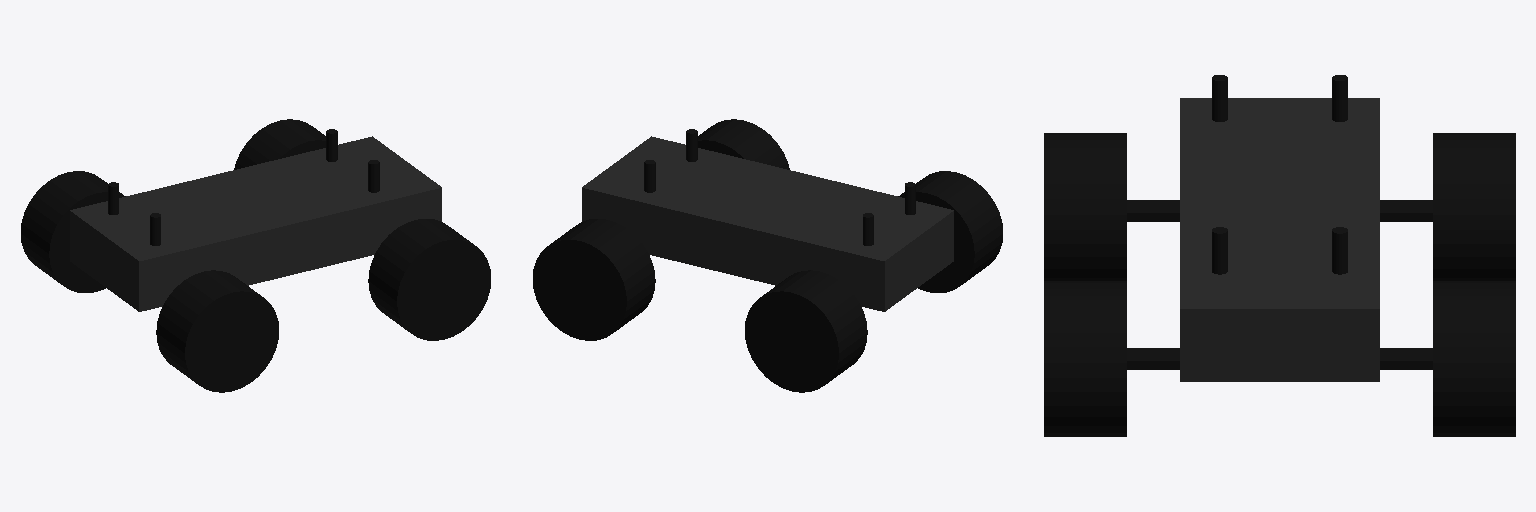
The robot description file, URDF, robot "hbx_16889_perfect":
<?xml version="1.0" ?>
<!-- =================================================================================== -->
<!-- |    This document was autogenerated by xacro from /home/user/ros2_ws/src/hbx_description/urdf/hbx_16889.urdf.xacro | -->
<!-- |    EDITING THIS FILE BY HAND IS NOT RECOMMENDED                                 | -->
<!-- =================================================================================== -->
<robot name="hbx_16889_perfect">
  <!-- 재질 색상 -->
  <material name="black">
    <color rgba="0.1 0.1 0.1 1.0"/>
  </material>
  <material name="dark_grey">
    <color rgba="0.2 0.2 0.2 1.0"/>
  </material>
  <material name="silver">
    <color rgba="0.7 0.7 0.7 1.0"/>
  </material>
  <!-- ==========================================
       2. 메인 섀시 및 상판 결합
       ========================================== -->
  <link name="base_footprint"/>
  <joint name="base_joint" type="fixed">
    <parent link="base_footprint"/>
    <child link="chassis_link"/>
    <origin rpy="0 0 0" xyz="0 0 0.059"/>
  </joint>
  <!-- 섀시 -->
  <link name="chassis_link">
    <visual>
      <geometry>
        <box size="0.25 0.1 0.04"/>
      </geometry>
      <material name="dark_grey"/>
    </visual>
    <inertial>
      <mass value="0.45"/>
      <inertia ixx="0.0004350000000000001" ixy="0.0" ixz="0.0" iyy="0.00240375" iyz="0.0" izz="0.0027187500000000002"/>
    </inertial>
  </link>
  <link name="fl_body_post">
    <visual>
      <geometry>
        <cylinder length="0.035" radius="0.004"/>
      </geometry>
      <material name="black"/>
    </visual>
  </link>
  <joint name="fl_body_post_joint" type="fixed">
    <parent link="chassis_link"/>
    <child link="fl_body_post"/>
    <!-- 섀시 윗면에서 상판까지 뻗어 올라감 -->
    <origin rpy="0 0 0" xyz="0.08 0.03 0.025"/>
  </joint>
  <link name="fr_body_post">
    <visual>
      <geometry>
        <cylinder length="0.035" radius="0.004"/>
      </geometry>
      <material name="black"/>
    </visual>
  </link>
  <joint name="fr_body_post_joint" type="fixed">
    <parent link="chassis_link"/>
    <child link="fr_body_post"/>
    <!-- 섀시 윗면에서 상판까지 뻗어 올라감 -->
    <origin rpy="0 0 0" xyz="0.08 -0.03 0.025"/>
  </joint>
  <link name="rl_body_post">
    <visual>
      <geometry>
        <cylinder length="0.035" radius="0.004"/>
      </geometry>
      <material name="black"/>
    </visual>
  </link>
  <joint name="rl_body_post_joint" type="fixed">
    <parent link="chassis_link"/>
    <child link="rl_body_post"/>
    <!-- 섀시 윗면에서 상판까지 뻗어 올라감 -->
    <origin rpy="0 0 0" xyz="-0.1 0.03 0.025"/>
  </joint>
  <link name="rr_body_post">
    <visual>
      <geometry>
        <cylinder length="0.035" radius="0.004"/>
      </geometry>
      <material name="black"/>
    </visual>
  </link>
  <joint name="rr_body_post_joint" type="fixed">
    <parent link="chassis_link"/>
    <child link="rr_body_post"/>
    <!-- 섀시 윗면에서 상판까지 뻗어 올라감 -->
    <origin rpy="0 0 0" xyz="-0.1 -0.03 0.025"/>
  </joint>
  <!-- 사용자 STL 상판 -->
  <link name="upper_board_link">
    <visual>
      <origin rpy="0 0 0" xyz="0 0 0"/>
      <geometry>
        <mesh filename="package://hbx_description/meshes/upper.stl" scale="0.001 0.001 0.001"/>
      </geometry>
      <material name="dark_grey"/>
    </visual>
  </link>
  <joint name="chassis_to_upper_board_joint" type="fixed">
    <parent link="chassis_link"/>
    <child link="upper_board_link"/>
    <!-- Z값을 0.042로 설정하여 바디 포스트 꼭대기에 딱 맞게 얹히도록 함 -->
    <origin rpy="0 0 1.5708" xyz="0 0 0.042"/>
  </joint>
  <!-- [수정됨] 서스펜션 링크 (수직 운동은 그대로, 쇽업쇼버와 암 형상만 추가) -->
  <link name="fl_suspension_arm">
    <!-- 1. 쇽업쇼버 실린더 (사진 2번 반영) -->
    <visual>
      <geometry>
        <cylinder length="0.04" radius="0.006"/>
      </geometry>
      <material name="silver"/>
    </visual>
    <!-- 2. 로어 암 (Lower Arm - 섀시와 바퀴를 잇는 지지대, 사진 1번 반영) -->
    <visual>
      <!-- 암이 차체 중앙 쪽으로 뻗도록 위치 조정 -->
      <origin rpy="0 0 0" xyz="0 -0.035 -0.015"/>
      <geometry>
        <box size="0.015 0.07 0.005"/>
      </geometry>
      <material name="black"/>
    </visual>
    <inertial>
      <mass value="0.04"/>
      <inertia ixx="3.25e-06" ixy="0.0" ixz="0.0" iyy="3.25e-06" iyz="0.0" izz="5.000000000000001e-07"/>
    </inertial>
  </link>
  <!-- 원래 있던 완벽한 서스펜션 프리스마틱 조인트 (절대 안 건드림) -->
  <joint name="fl_shock_joint" type="prismatic">
    <parent link="chassis_link"/>
    <child link="fl_suspension_arm"/>
    <origin rpy="0 0 0" xyz="0.0875 0.087 -0.01"/>
    <axis xyz="0 0 1"/>
    <limit effort="200" lower="-0.035" upper="0.01" velocity="2.0"/>
    <dynamics damping="45.0" friction="0.5" spring_reference="0.0" spring_stiffness="800.0"/>
  </joint>
  <!-- 원래 있던 조향 너클 (절대 안 건드림) -->
  <link name="fl_steering_knuckle">
    <visual>
      <geometry>
        <box size="0.02 0.02 0.02"/>
      </geometry>
      <material name="dark_grey"/>
    </visual>
    <inertial>
      <mass value="0.02"/>
      <inertia ixx="1.3333333333333334e-06" ixy="0.0" ixz="0.0" iyy="1.3333333333333334e-06" iyz="0.0" izz="1.3333333333333334e-06"/>
    </inertial>
  </link>
  <joint name="fl_steering_joint" type="revolute">
    <parent link="fl_suspension_arm"/>
    <child link="fl_steering_knuckle"/>
    <origin rpy="0 0 0" xyz="0 0 -0.015"/>
    <axis xyz="0 0 1"/>
    <limit effort="50" lower="-0.6" upper="0.6" velocity="5.0"/>
  </joint>
  <!-- 원래 있던 바퀴 (절대 안 건드림) -->
  <link name="fl_wheel">
    <visual>
      <origin rpy="1.570796326795 0 0" xyz="0 0 0"/>
      <geometry>
        <cylinder length="0.041" radius="0.039"/>
      </geometry>
      <material name="black"/>
    </visual>
    <collision>
      <origin rpy="1.570796326795 0 0" xyz="0 0 0"/>
      <geometry>
        <cylinder length="0.041" radius="0.039"/>
      </geometry>
    </collision>
    <inertial>
      <mass value="0.06"/>
      <inertia ixx="3.1219999999999996e-05" ixy="0.0" ixz="0.0" iyy="3.1219999999999996e-05" iyz="0.0" izz="4.563e-05"/>
    </inertial>
  </link>
  <joint name="fl_wheel_joint" type="continuous">
    <parent link="fl_steering_knuckle"/>
    <child link="fl_wheel"/>
    <origin rpy="0 0 0" xyz="0 0.01 0"/>
    <axis xyz="0 1 0"/>
    <dynamics damping="0.1" friction="0.2"/>
  </joint>
  <gazebo reference="fl_wheel">
    <mu1>1.2</mu1>
    <mu2>1.2</mu2>
    <kp>500000.0</kp>
    <kd>10.0</kd>
    <minDepth>0.001</minDepth>
    <material>Gazebo/Black</material>
  </gazebo>
  <gazebo reference="fl_shock_joint">
    <implicitSpringDamper>true</implicitSpringDamper>
  </gazebo>
  <!-- [수정됨] 서스펜션 링크 (수직 운동은 그대로, 쇽업쇼버와 암 형상만 추가) -->
  <link name="fr_suspension_arm">
    <!-- 1. 쇽업쇼버 실린더 (사진 2번 반영) -->
    <visual>
      <geometry>
        <cylinder length="0.04" radius="0.006"/>
      </geometry>
      <material name="silver"/>
    </visual>
    <!-- 2. 로어 암 (Lower Arm - 섀시와 바퀴를 잇는 지지대, 사진 1번 반영) -->
    <visual>
      <!-- 암이 차체 중앙 쪽으로 뻗도록 위치 조정 -->
      <origin rpy="0 0 0" xyz="0 0.035 -0.015"/>
      <geometry>
        <box size="0.015 0.07 0.005"/>
      </geometry>
      <material name="black"/>
    </visual>
    <inertial>
      <mass value="0.04"/>
      <inertia ixx="3.25e-06" ixy="0.0" ixz="0.0" iyy="3.25e-06" iyz="0.0" izz="5.000000000000001e-07"/>
    </inertial>
  </link>
  <!-- 원래 있던 완벽한 서스펜션 프리스마틱 조인트 (절대 안 건드림) -->
  <joint name="fr_shock_joint" type="prismatic">
    <parent link="chassis_link"/>
    <child link="fr_suspension_arm"/>
    <origin rpy="0 0 0" xyz="0.0875 -0.087 -0.01"/>
    <axis xyz="0 0 1"/>
    <limit effort="200" lower="-0.035" upper="0.01" velocity="2.0"/>
    <dynamics damping="45.0" friction="0.5" spring_reference="0.0" spring_stiffness="800.0"/>
  </joint>
  <!-- 원래 있던 조향 너클 (절대 안 건드림) -->
  <link name="fr_steering_knuckle">
    <visual>
      <geometry>
        <box size="0.02 0.02 0.02"/>
      </geometry>
      <material name="dark_grey"/>
    </visual>
    <inertial>
      <mass value="0.02"/>
      <inertia ixx="1.3333333333333334e-06" ixy="0.0" ixz="0.0" iyy="1.3333333333333334e-06" iyz="0.0" izz="1.3333333333333334e-06"/>
    </inertial>
  </link>
  <joint name="fr_steering_joint" type="revolute">
    <parent link="fr_suspension_arm"/>
    <child link="fr_steering_knuckle"/>
    <origin rpy="0 0 0" xyz="0 0 -0.015"/>
    <axis xyz="0 0 1"/>
    <limit effort="50" lower="-0.6" upper="0.6" velocity="5.0"/>
  </joint>
  <!-- 원래 있던 바퀴 (절대 안 건드림) -->
  <link name="fr_wheel">
    <visual>
      <origin rpy="1.570796326795 0 0" xyz="0 0 0"/>
      <geometry>
        <cylinder length="0.041" radius="0.039"/>
      </geometry>
      <material name="black"/>
    </visual>
    <collision>
      <origin rpy="1.570796326795 0 0" xyz="0 0 0"/>
      <geometry>
        <cylinder length="0.041" radius="0.039"/>
      </geometry>
    </collision>
    <inertial>
      <mass value="0.06"/>
      <inertia ixx="3.1219999999999996e-05" ixy="0.0" ixz="0.0" iyy="3.1219999999999996e-05" iyz="0.0" izz="4.563e-05"/>
    </inertial>
  </link>
  <joint name="fr_wheel_joint" type="continuous">
    <parent link="fr_steering_knuckle"/>
    <child link="fr_wheel"/>
    <origin rpy="0 0 0" xyz="0 -0.01 0"/>
    <axis xyz="0 1 0"/>
    <dynamics damping="0.1" friction="0.2"/>
  </joint>
  <gazebo reference="fr_wheel">
    <mu1>1.2</mu1>
    <mu2>1.2</mu2>
    <kp>500000.0</kp>
    <kd>10.0</kd>
    <minDepth>0.001</minDepth>
    <material>Gazebo/Black</material>
  </gazebo>
  <gazebo reference="fr_shock_joint">
    <implicitSpringDamper>true</implicitSpringDamper>
  </gazebo>
  <!-- [수정됨] 서스펜션 링크 (수직 운동은 그대로, 쇽업쇼버와 암 형상만 추가) -->
  <link name="rl_suspension_arm">
    <!-- 1. 쇽업쇼버 실린더 (사진 2번 반영) -->
    <visual>
      <geometry>
        <cylinder length="0.04" radius="0.006"/>
      </geometry>
      <material name="silver"/>
    </visual>
    <!-- 2. 로어 암 (Lower Arm - 섀시와 바퀴를 잇는 지지대, 사진 1번 반영) -->
    <visual>
      <!-- 암이 차체 중앙 쪽으로 뻗도록 위치 조정 -->
      <origin rpy="0 0 0" xyz="0 -0.035 -0.015"/>
      <geometry>
        <box size="0.015 0.07 0.005"/>
      </geometry>
      <material name="black"/>
    </visual>
    <inertial>
      <mass value="0.04"/>
      <inertia ixx="3.25e-06" ixy="0.0" ixz="0.0" iyy="3.25e-06" iyz="0.0" izz="5.000000000000001e-07"/>
    </inertial>
  </link>
  <!-- 원래 있던 완벽한 서스펜션 프리스마틱 조인트 (절대 안 건드림) -->
  <joint name="rl_shock_joint" type="prismatic">
    <parent link="chassis_link"/>
    <child link="rl_suspension_arm"/>
    <origin rpy="0 0 0" xyz="-0.0875 0.087 -0.01"/>
    <axis xyz="0 0 1"/>
    <limit effort="200" lower="-0.035" upper="0.01" velocity="2.0"/>
    <dynamics damping="45.0" friction="0.5" spring_reference="0.0" spring_stiffness="800.0"/>
  </joint>
  <!-- 원래 있던 조향 너클 (절대 안 건드림) -->
  <link name="rl_steering_knuckle">
    <visual>
      <geometry>
        <box size="0.02 0.02 0.02"/>
      </geometry>
      <material name="dark_grey"/>
    </visual>
    <inertial>
      <mass value="0.02"/>
      <inertia ixx="1.3333333333333334e-06" ixy="0.0" ixz="0.0" iyy="1.3333333333333334e-06" iyz="0.0" izz="1.3333333333333334e-06"/>
    </inertial>
  </link>
  <joint name="rl_steering_joint" type="fixed">
    <parent link="rl_suspension_arm"/>
    <child link="rl_steering_knuckle"/>
    <origin rpy="0 0 0" xyz="0 0 -0.015"/>
  </joint>
  <!-- 원래 있던 바퀴 (절대 안 건드림) -->
  <link name="rl_wheel">
    <visual>
      <origin rpy="1.570796326795 0 0" xyz="0 0 0"/>
      <geometry>
        <cylinder length="0.041" radius="0.039"/>
      </geometry>
      <material name="black"/>
    </visual>
    <collision>
      <origin rpy="1.570796326795 0 0" xyz="0 0 0"/>
      <geometry>
        <cylinder length="0.041" radius="0.039"/>
      </geometry>
    </collision>
    <inertial>
      <mass value="0.06"/>
      <inertia ixx="3.1219999999999996e-05" ixy="0.0" ixz="0.0" iyy="3.1219999999999996e-05" iyz="0.0" izz="4.563e-05"/>
    </inertial>
  </link>
  <joint name="rl_wheel_joint" type="continuous">
    <parent link="rl_steering_knuckle"/>
    <child link="rl_wheel"/>
    <origin rpy="0 0 0" xyz="0 0.01 0"/>
    <axis xyz="0 1 0"/>
    <dynamics damping="0.1" friction="0.2"/>
  </joint>
  <gazebo reference="rl_wheel">
    <mu1>1.2</mu1>
    <mu2>1.2</mu2>
    <kp>500000.0</kp>
    <kd>10.0</kd>
    <minDepth>0.001</minDepth>
    <material>Gazebo/Black</material>
  </gazebo>
  <gazebo reference="rl_shock_joint">
    <implicitSpringDamper>true</implicitSpringDamper>
  </gazebo>
  <!-- [수정됨] 서스펜션 링크 (수직 운동은 그대로, 쇽업쇼버와 암 형상만 추가) -->
  <link name="rr_suspension_arm">
    <!-- 1. 쇽업쇼버 실린더 (사진 2번 반영) -->
    <visual>
      <geometry>
        <cylinder length="0.04" radius="0.006"/>
      </geometry>
      <material name="silver"/>
    </visual>
    <!-- 2. 로어 암 (Lower Arm - 섀시와 바퀴를 잇는 지지대, 사진 1번 반영) -->
    <visual>
      <!-- 암이 차체 중앙 쪽으로 뻗도록 위치 조정 -->
      <origin rpy="0 0 0" xyz="0 0.035 -0.015"/>
      <geometry>
        <box size="0.015 0.07 0.005"/>
      </geometry>
      <material name="black"/>
    </visual>
    <inertial>
      <mass value="0.04"/>
      <inertia ixx="3.25e-06" ixy="0.0" ixz="0.0" iyy="3.25e-06" iyz="0.0" izz="5.000000000000001e-07"/>
    </inertial>
  </link>
  <!-- 원래 있던 완벽한 서스펜션 프리스마틱 조인트 (절대 안 건드림) -->
  <joint name="rr_shock_joint" type="prismatic">
    <parent link="chassis_link"/>
    <child link="rr_suspension_arm"/>
    <origin rpy="0 0 0" xyz="-0.0875 -0.087 -0.01"/>
    <axis xyz="0 0 1"/>
    <limit effort="200" lower="-0.035" upper="0.01" velocity="2.0"/>
    <dynamics damping="45.0" friction="0.5" spring_reference="0.0" spring_stiffness="800.0"/>
  </joint>
  <!-- 원래 있던 조향 너클 (절대 안 건드림) -->
  <link name="rr_steering_knuckle">
    <visual>
      <geometry>
        <box size="0.02 0.02 0.02"/>
      </geometry>
      <material name="dark_grey"/>
    </visual>
    <inertial>
      <mass value="0.02"/>
      <inertia ixx="1.3333333333333334e-06" ixy="0.0" ixz="0.0" iyy="1.3333333333333334e-06" iyz="0.0" izz="1.3333333333333334e-06"/>
    </inertial>
  </link>
  <joint name="rr_steering_joint" type="fixed">
    <parent link="rr_suspension_arm"/>
    <child link="rr_steering_knuckle"/>
    <origin rpy="0 0 0" xyz="0 0 -0.015"/>
  </joint>
  <!-- 원래 있던 바퀴 (절대 안 건드림) -->
  <link name="rr_wheel">
    <visual>
      <origin rpy="1.570796326795 0 0" xyz="0 0 0"/>
      <geometry>
        <cylinder length="0.041" radius="0.039"/>
      </geometry>
      <material name="black"/>
    </visual>
    <collision>
      <origin rpy="1.570796326795 0 0" xyz="0 0 0"/>
      <geometry>
        <cylinder length="0.041" radius="0.039"/>
      </geometry>
    </collision>
    <inertial>
      <mass value="0.06"/>
      <inertia ixx="3.1219999999999996e-05" ixy="0.0" ixz="0.0" iyy="3.1219999999999996e-05" iyz="0.0" izz="4.563e-05"/>
    </inertial>
  </link>
  <joint name="rr_wheel_joint" type="continuous">
    <parent link="rr_steering_knuckle"/>
    <child link="rr_wheel"/>
    <origin rpy="0 0 0" xyz="0 -0.01 0"/>
    <axis xyz="0 1 0"/>
    <dynamics damping="0.1" friction="0.2"/>
  </joint>
  <gazebo reference="rr_wheel">
    <mu1>1.2</mu1>
    <mu2>1.2</mu2>
    <kp>500000.0</kp>
    <kd>10.0</kd>
    <minDepth>0.001</minDepth>
    <material>Gazebo/Black</material>
  </gazebo>
  <gazebo reference="rr_shock_joint">
    <implicitSpringDamper>true</implicitSpringDamper>
  </gazebo>
</robot>

--- What the picture shows (computed from the rendered views, not written in the file) ---
Views: 3 orthographic renders of the robot side by side, from view 1: azimuth 30°, elevation 25°; view 2: azimuth 150°, elevation 25°; view 3: azimuth 270°, elevation 25°.
Model hbx_16889_perfect with 19 links and 18 joints (2 revolute, 4 continuous, 4 prismatic, 8 fixed), rooted at base_footprint, posed all joints at 0.
Visible links, largest first — view 1: chassis_link, fr_wheel, rr_wheel, rl_wheel, fl_wheel; view 2: chassis_link, fl_wheel, rl_wheel, rr_wheel, fr_wheel; view 3: chassis_link, fl_wheel, fr_wheel, rl_wheel, rr_wheel, fl_suspension_arm, fr_suspension_arm, rl_suspension_arm, rr_suspension_arm, fl_body_post, fr_body_post, rl_body_post (+1 smaller).
Link boxes in pixels (left/top/right/bottom): chassis_link: left=70, top=136, right=441, bottom=311; fr_wheel: left=368, top=219, right=490, bottom=340; rr_wheel: left=156, top=270, right=278, bottom=392; rl_wheel: left=21, top=171, right=125, bottom=292; fl_wheel: left=234, top=119, right=325, bottom=169; chassis_link: left=582, top=136, right=953, bottom=311; fl_wheel: left=533, top=219, right=655, bottom=340; rl_wheel: left=745, top=270, right=867, bottom=392; rr_wheel: left=898, top=171, right=1002, bottom=292; fr_wheel: left=698, top=119, right=789, bottom=169; chassis_link: left=1180, top=98, right=1379, bottom=381; fl_wheel: left=1433, top=281, right=1515, bottom=436; fr_wheel: left=1044, top=281, right=1126, bottom=436; rl_wheel: left=1433, top=133, right=1515, bottom=280; rr_wheel: left=1044, top=133, right=1126, bottom=280; fl_suspension_arm: left=1380, top=348, right=1432, bottom=369; fr_suspension_arm: left=1127, top=348, right=1179, bottom=369; rl_suspension_arm: left=1380, top=200, right=1432, bottom=221; rr_suspension_arm: left=1127, top=200, right=1179, bottom=221; fl_body_post: left=1332, top=227, right=1347, bottom=274; fr_body_post: left=1212, top=227, right=1227, bottom=274; rl_body_post: left=1332, top=75, right=1347, bottom=121.
Size in the robot's own frame: 0.253 by 0.235 by 0.1065 metres.
Meshes: 1 distinct files referenced, 0 mesh visuals loaded (none loaded); not drawn: 1 (reference not matched to a file when rendering).
